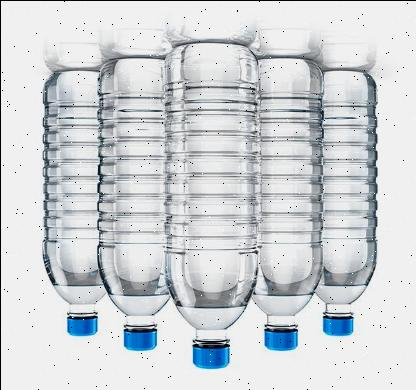Plastic Bottle: (163, 40, 257, 368), (99, 53, 159, 353), (39, 64, 101, 338), (320, 66, 378, 340), (261, 58, 315, 348)
